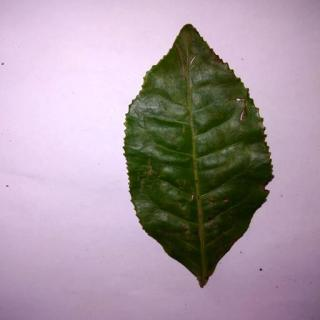Bird Eye Spot: (124, 23, 274, 287)
